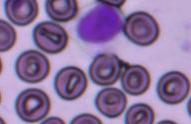L: (75, 1, 125, 47)
